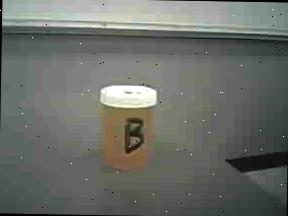Bottle B: (94, 84, 160, 174)
